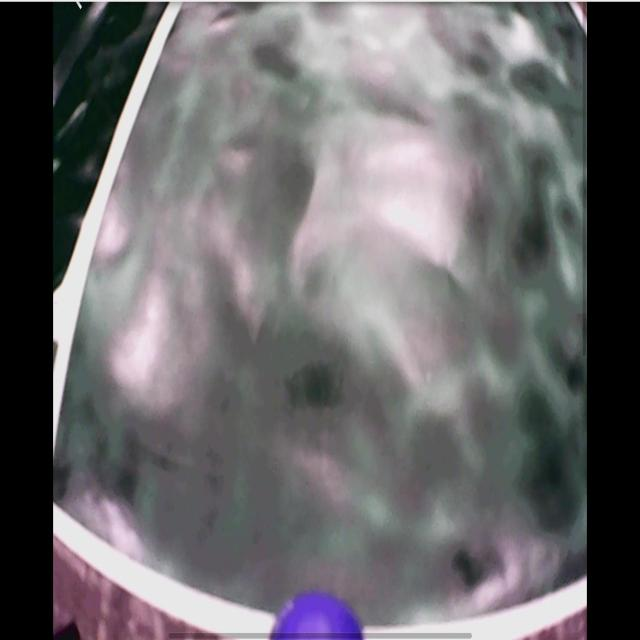ball: (269, 592, 361, 640)
